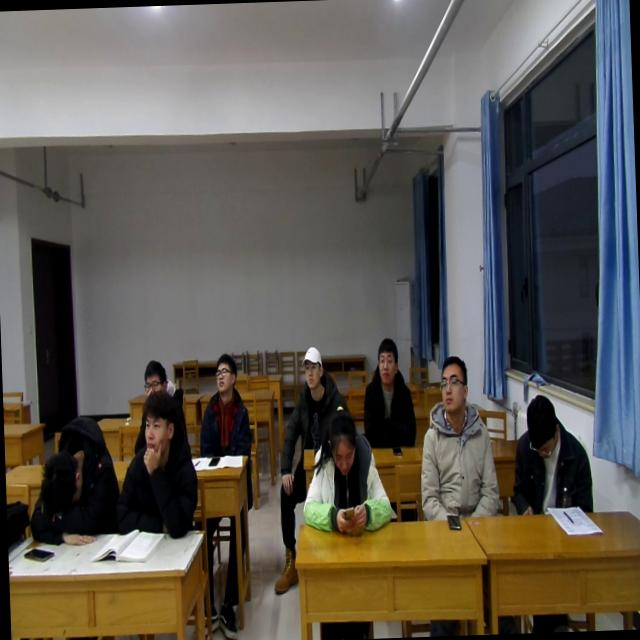bow: (24, 406, 122, 548)
down: (520, 386, 562, 458), (324, 405, 358, 482)
lookup: (136, 388, 176, 463), (433, 352, 472, 414), (296, 341, 328, 394), (370, 335, 400, 388), (137, 356, 168, 399), (212, 350, 238, 398)
sit: (415, 352, 501, 524), (108, 385, 200, 537), (298, 397, 394, 537), (507, 389, 596, 517), (274, 340, 343, 450), (358, 332, 420, 454), (192, 351, 254, 458), (134, 354, 186, 433)
